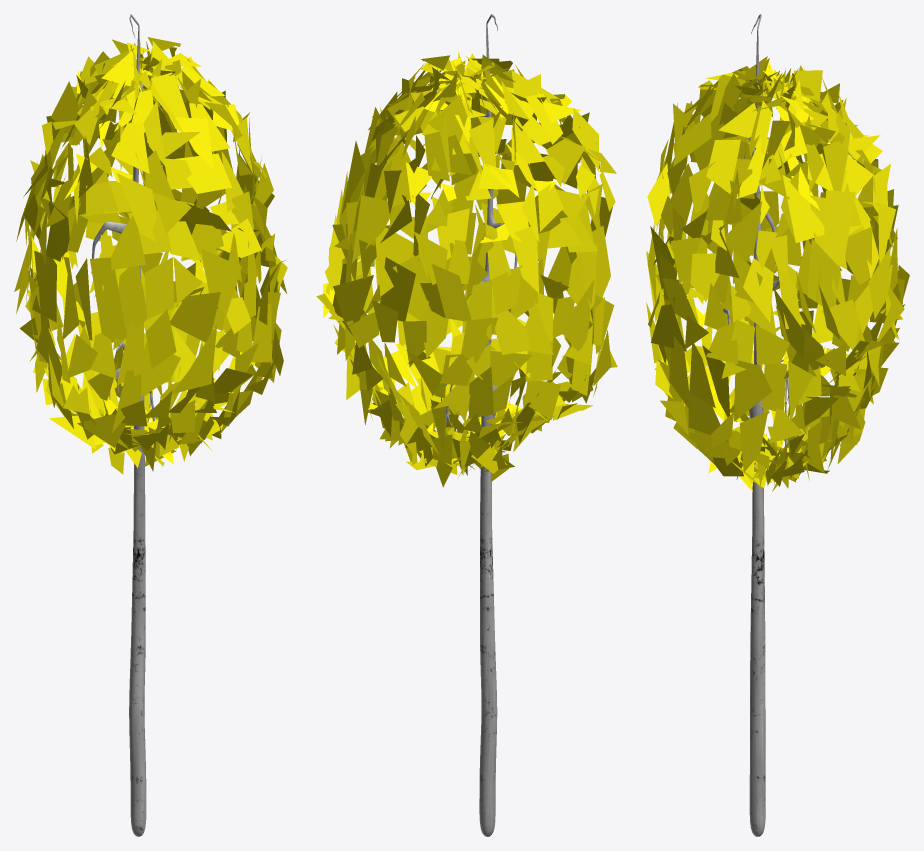
File: Leaves25.001.fbx
3 views of the same model, side by side, from view 1: azimuth 30°, elevation 25°; view 2: azimuth 150°, elevation 25°; view 3: azimuth 270°, elevation 25° (orthographic).
Visible parts, largest first — view 1: Leaves25.001; view 2: Leaves25.001; view 3: Leaves25.001.
Boxes of the visible parts, x1,y1,x2,y2 form: Leaves25.001: [14, 14, 287, 836]; Leaves25.001: [316, 14, 617, 836]; Leaves25.001: [646, 14, 909, 836].
Bounding box in the file's own units: 816 × 2612 × 762.
2 materials, 1 textured.
